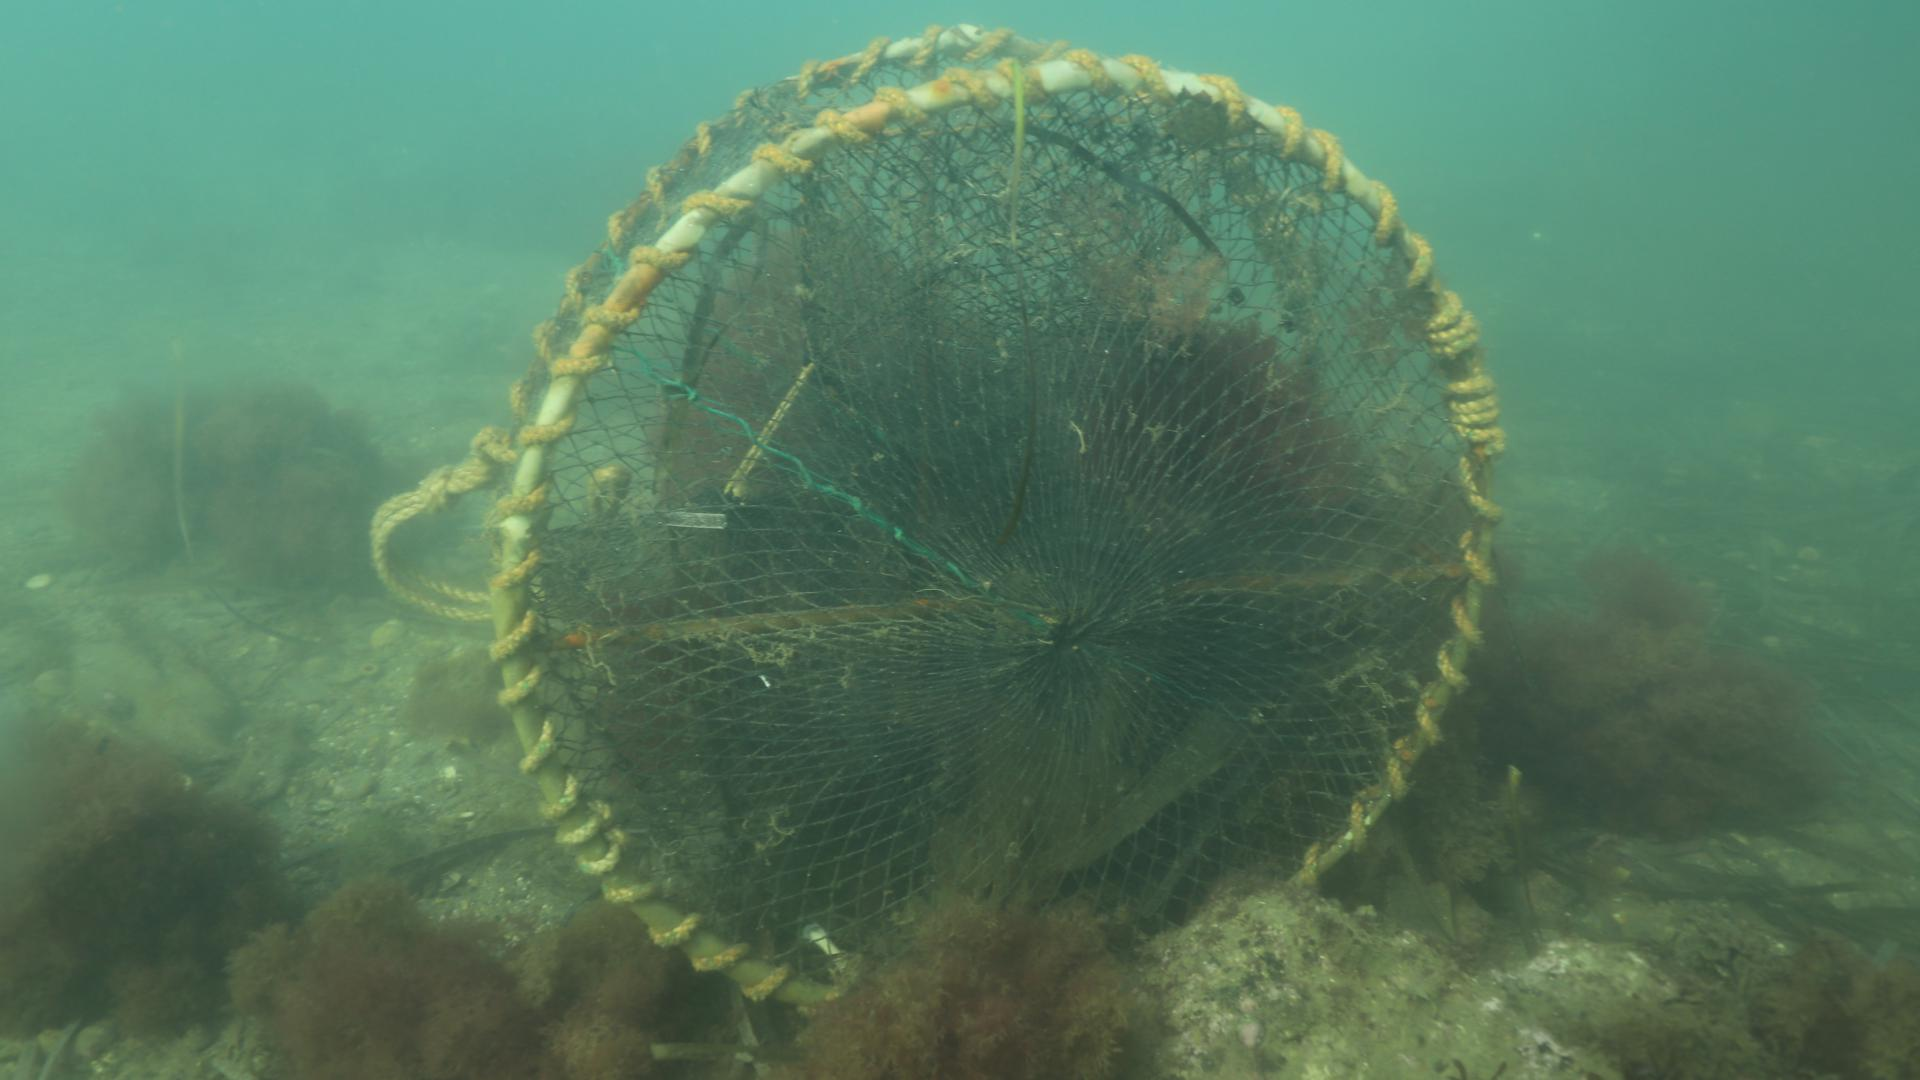bundle of ropes: (367, 425, 513, 620)
circular fish trap: (491, 22, 1506, 1019)
